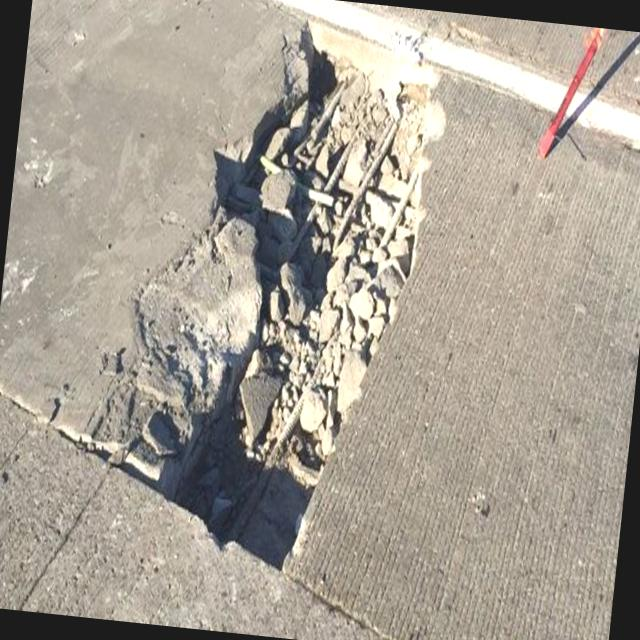bad-road: (68, 0, 437, 585)
